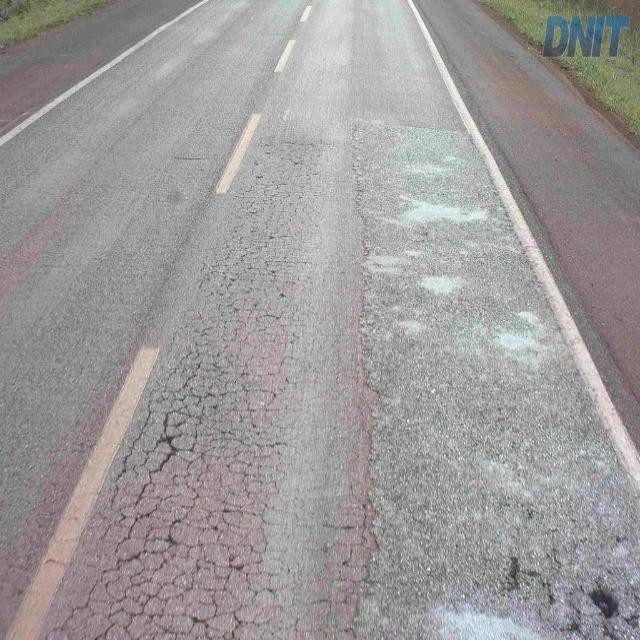pothole: (125, 417, 261, 637)
